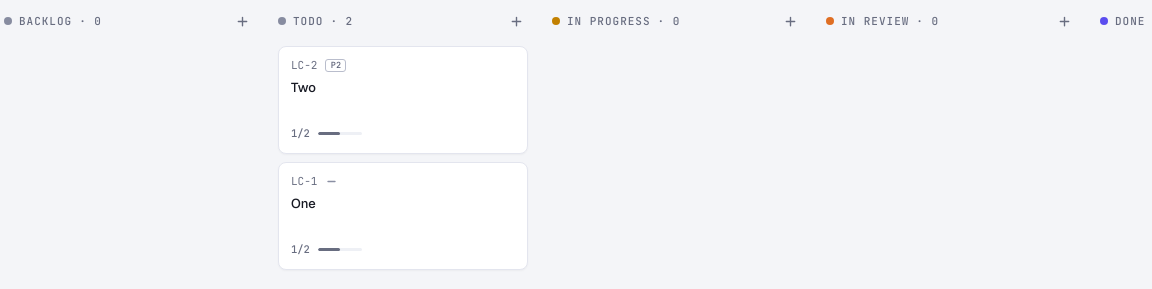
Test: the context menu on a card (LC-222) › moves the ticket from the Move to submenu
This screenshot has width=1152, height=289.
Right-click the button "LC-2 P2 Two 1/2" at (403, 100), box [278,46,528,154]
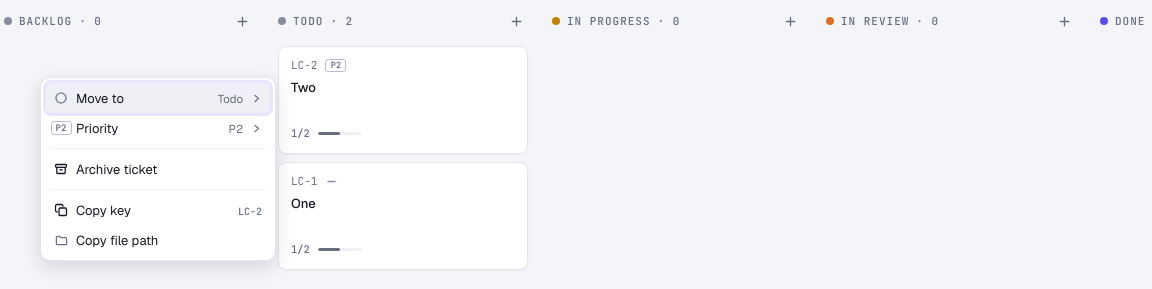
Click the menu item "Move to Todo". click: click(158, 98)
box: [46,83,270,113]
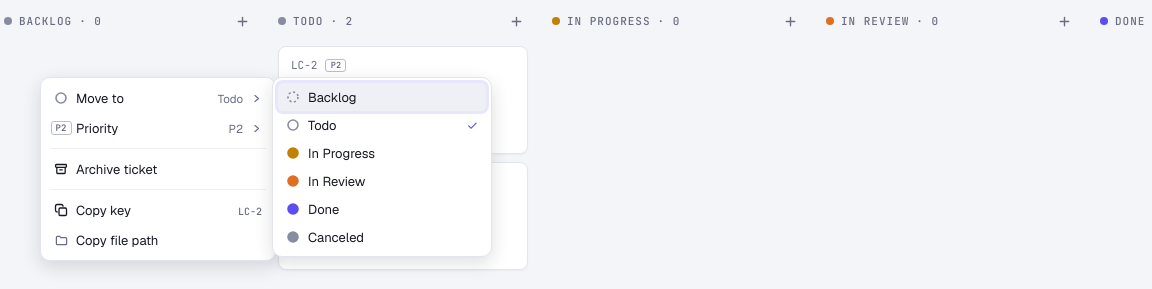
Click the menu item "Done". click: click(382, 209)
box: [278,195,486,223]
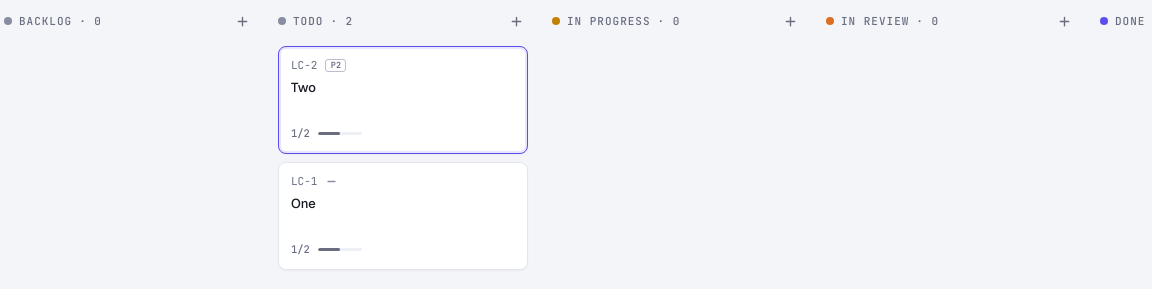
expect the menu is gone: met
